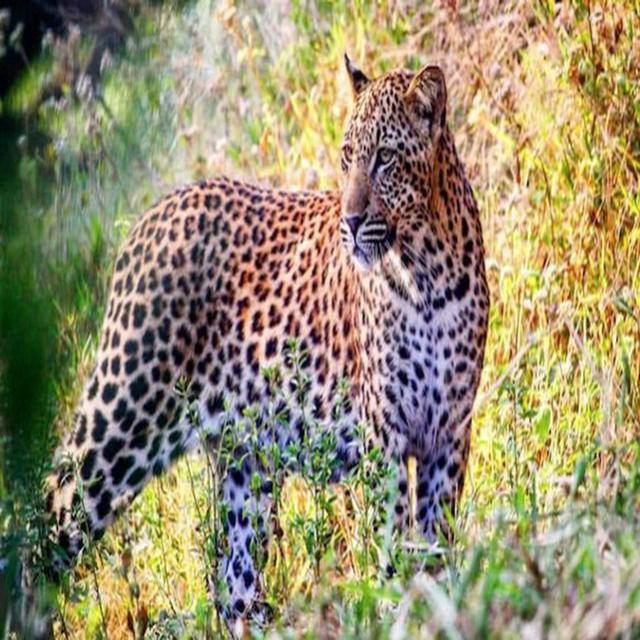Leopard: (1, 35, 512, 640)
